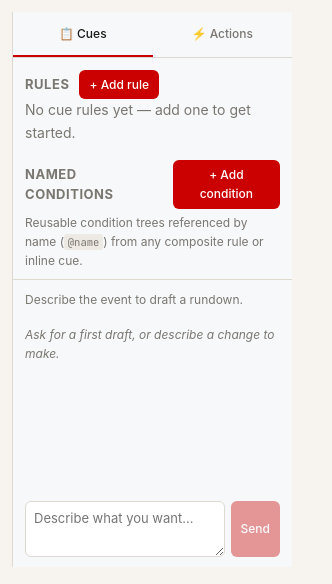
Scenario: PlannerAssistPanel › switches to the Actions tab and renders NamedActionsManager content
The width and height of the screenshot is (332, 584).
Check: the text "No cue rules yet — add one to get started." is shown, box [25,99,280,144]
Click the button "⚡ Actions".
click(222, 35)  # box [152,12,292,57]
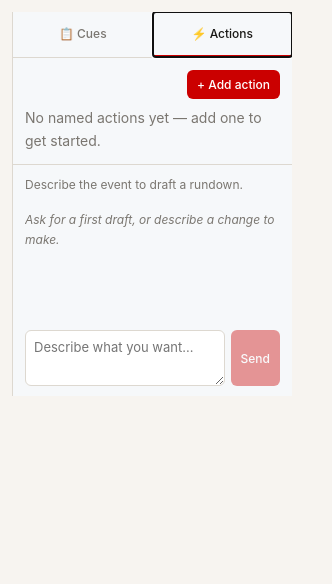
Check: the text "No named actions yet — add one to get started." is shown, box [25,107,280,152]
Check: the text "No cue rules yet — add one to get started." is gone
